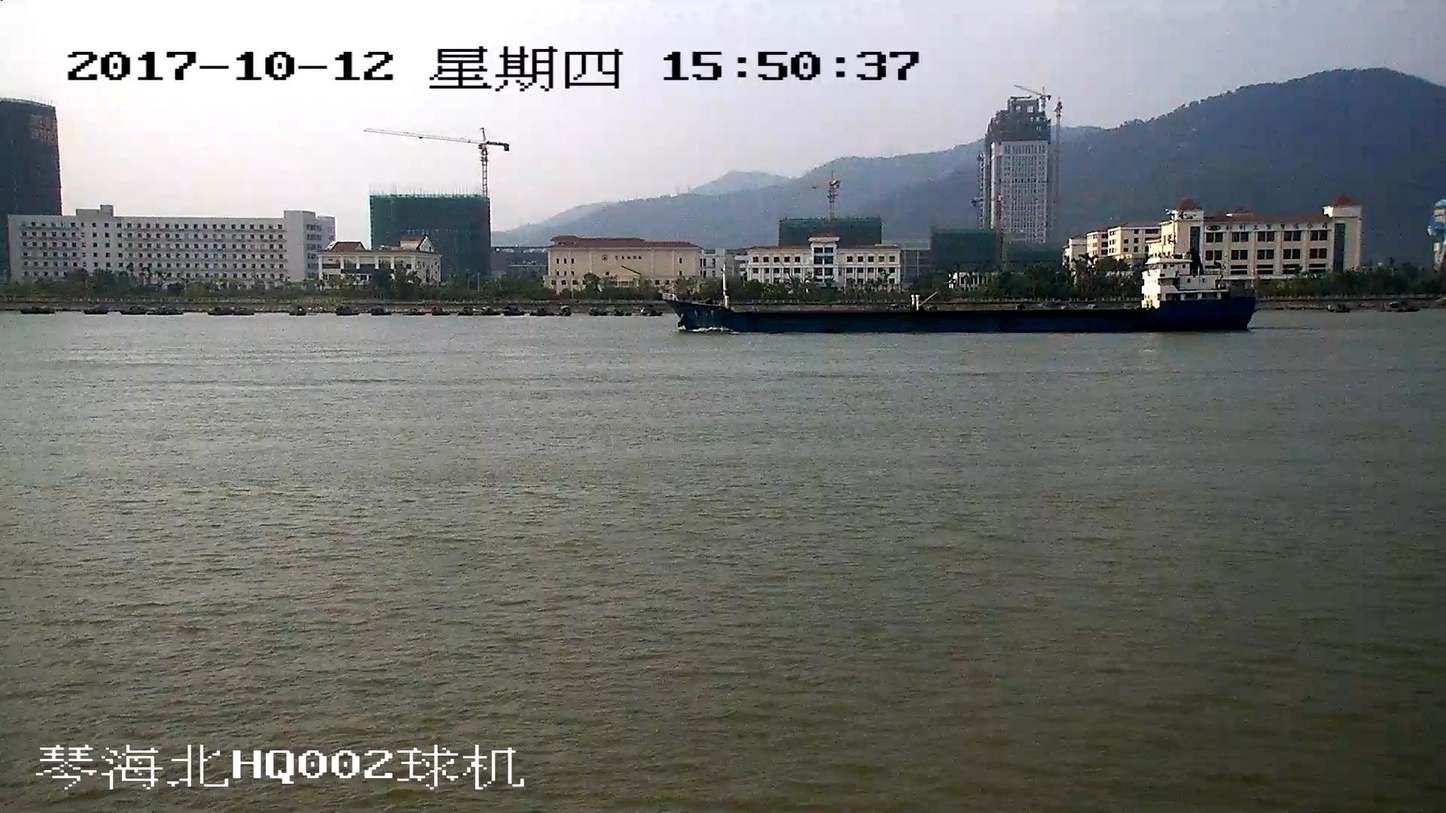general cargo ship: (666, 252, 1253, 332)
